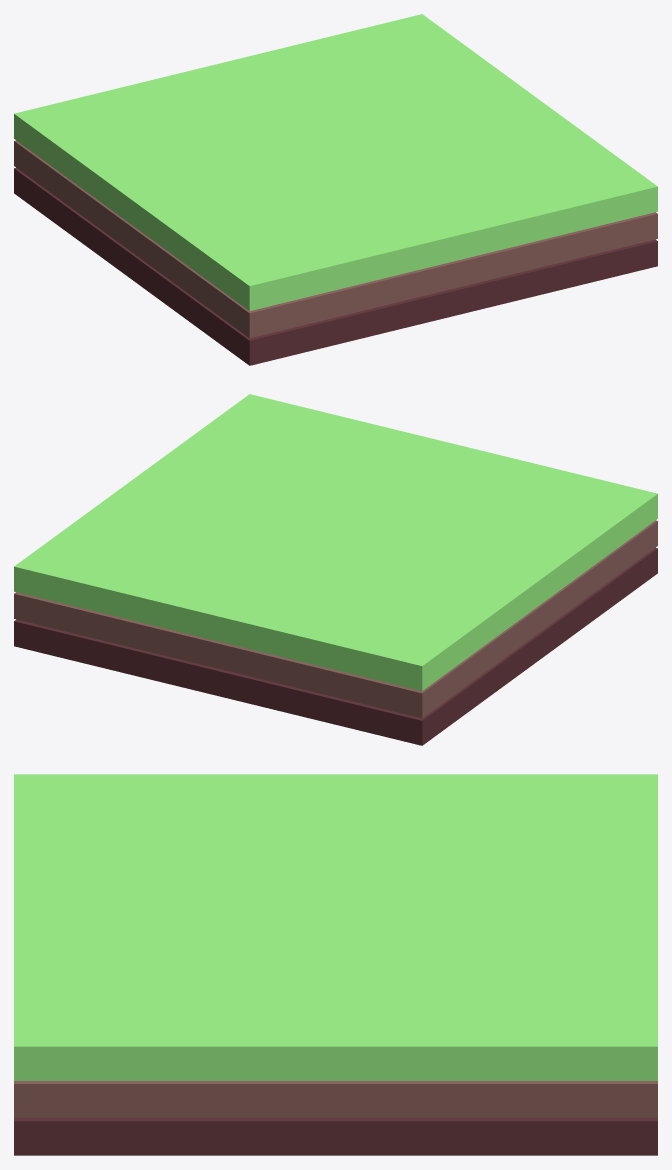
The model's file is grass_tile.glb.
The picture shows the model from 3 angles, top to bottom: view 1: azimuth 30°, elevation 25°; view 2: azimuth 150°, elevation 25°; view 3: azimuth 270°, elevation 25°; orthographic projection. The views are drawn at different scales.
Parts seen in each view (by area): view 1: Cube, Cube.002, Cube.001; view 2: Cube, Cube.002, Cube.001; view 3: Cube, Cube.002, Cube.001.
Part boxes in pixels (box(x1,y1,x2,y2)): Cube: box(14, 14, 657, 310); Cube.002: box(14, 167, 657, 365); Cube.001: box(14, 140, 657, 338); Cube: box(14, 394, 657, 690); Cube.002: box(14, 547, 657, 745); Cube.001: box(14, 520, 657, 718); Cube: box(14, 774, 657, 1080); Cube.002: box(14, 1118, 657, 1155); Cube.001: box(14, 1081, 657, 1117).
Size of the model in its own units: 2 by 0.373 by 2.
